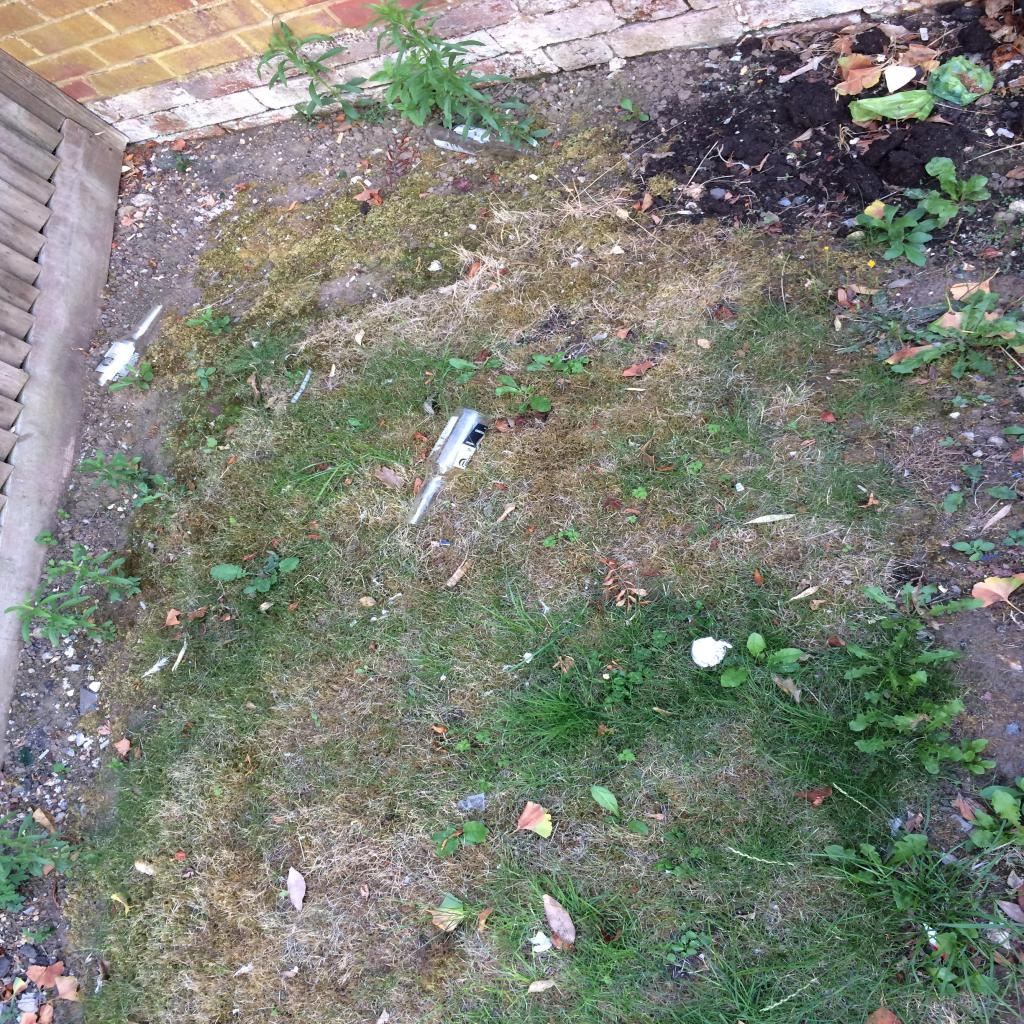Cigarette: (336, 132, 344, 144), (677, 210, 693, 214)
Glass bottle: (405, 406, 493, 525), (88, 302, 166, 388), (426, 121, 538, 157)
Plastic film: (457, 792, 485, 810)
Unlabeled litter: (690, 637, 732, 667), (924, 924, 946, 964), (291, 368, 311, 404)
